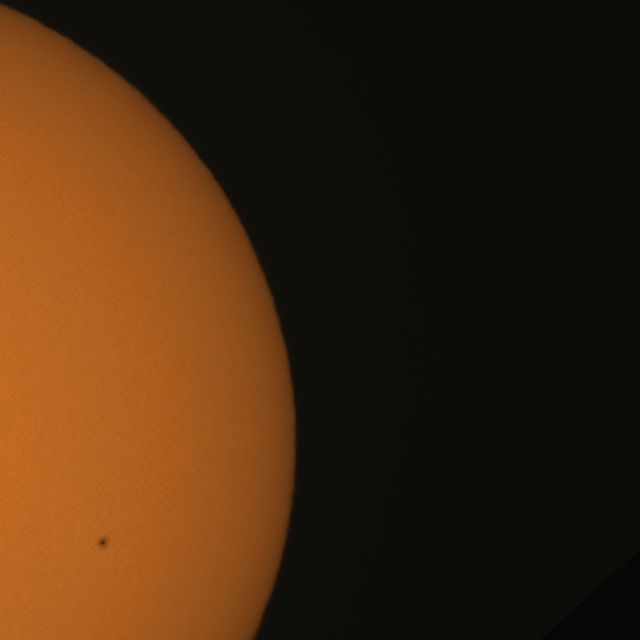sunspot: (96, 536, 109, 550)
